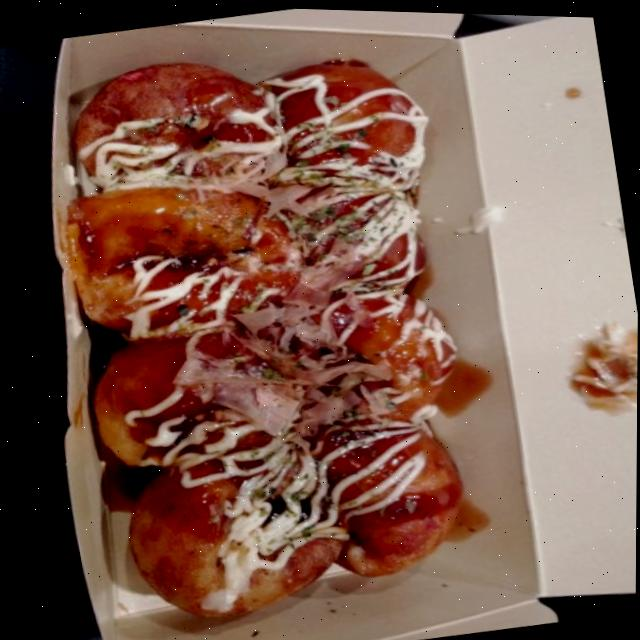炸货点心: (1, 0, 595, 640)
